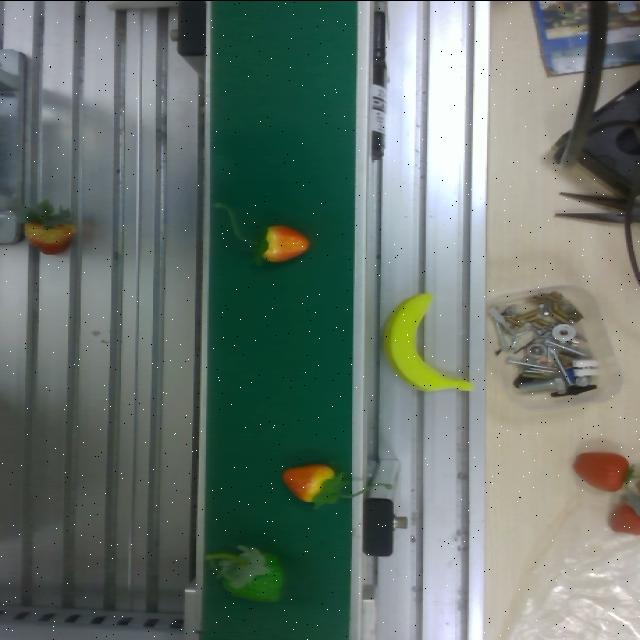Small Unripe Strawberry: (206, 540, 296, 604), (248, 218, 312, 268), (283, 456, 341, 509)
conveyor: (190, 0, 362, 640)
